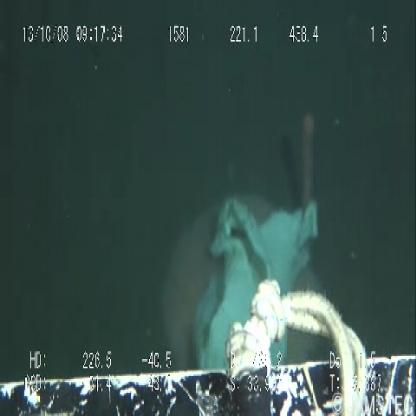Rov: (2, 297, 416, 415)
Rác: (216, 197, 323, 296)
